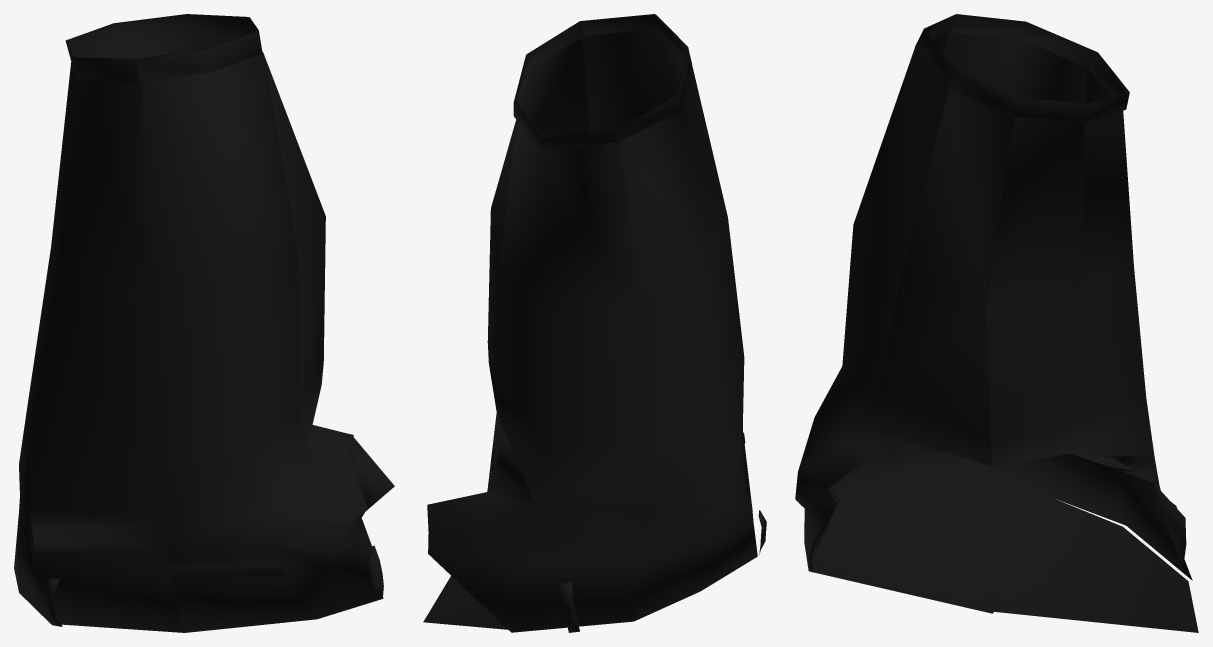
The model's file is left_up_leg.glb.
3 renders of one model, left to right at view 1: azimuth 30°, elevation 25°; view 2: azimuth 150°, elevation 25°; view 3: azimuth 270°, elevation 25°, orthographic. The views are drawn at different scales.
Parts seen in each view (by area): view 1: shorts-black_LEFT_UP_LEG; view 2: shorts-black_LEFT_UP_LEG; view 3: shorts-black_LEFT_UP_LEG.
Boxes of the visible parts, x1,y1,x2,y2 form: shorts-black_LEFT_UP_LEG: [14, 14, 394, 632]; shorts-black_LEFT_UP_LEG: [423, 14, 766, 632]; shorts-black_LEFT_UP_LEG: [795, 14, 1198, 632].
Size of the model in its own units: 0.2571 by 0.5019 by 0.3314.
Materials: 1 (1 with a texture image).
